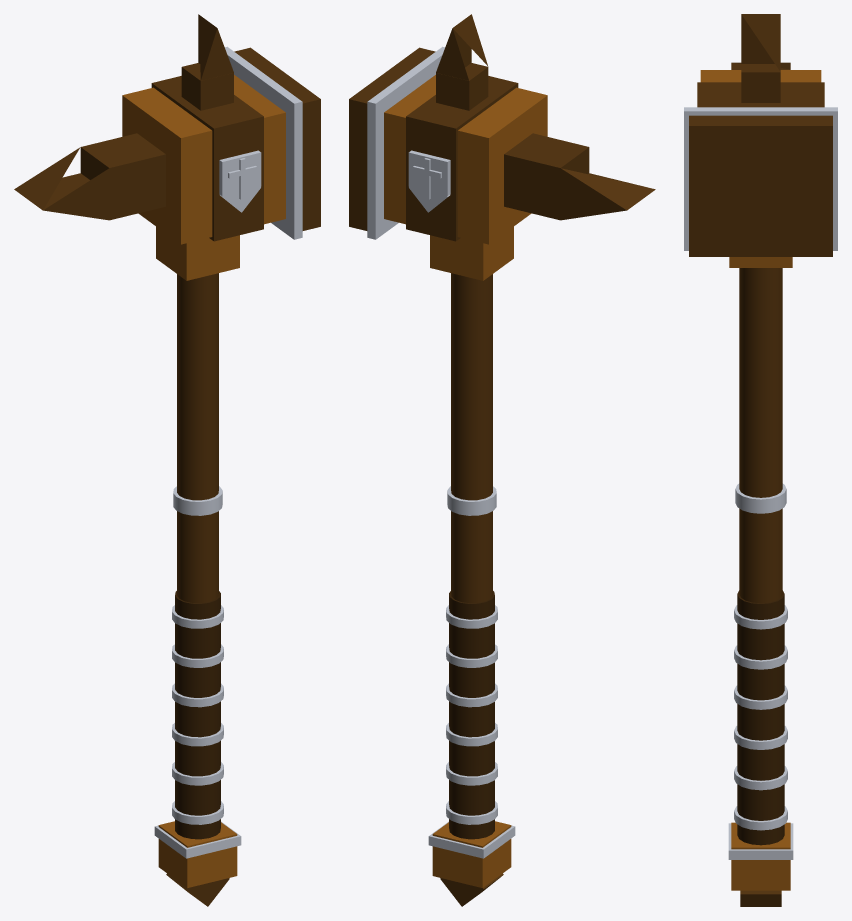
The picture shows the model from 3 angles, left to right: view 1: azimuth 30°, elevation 25°; view 2: azimuth 150°, elevation 25°; view 3: azimuth 270°, elevation 25°; orthographic projection. The views are drawn at different scales.
Parts seen in each view (by area): view 1: titan-warhammer; view 2: titan-warhammer; view 3: titan-warhammer.
Part boxes in pixels (bbox=[...]): titan-warhammer: bbox=[14, 14, 320, 906]; titan-warhammer: bbox=[349, 14, 655, 906]; titan-warhammer: bbox=[684, 14, 837, 906].
Bounding box in the file's own units: 0.3634 × 1.18 × 0.1837.
